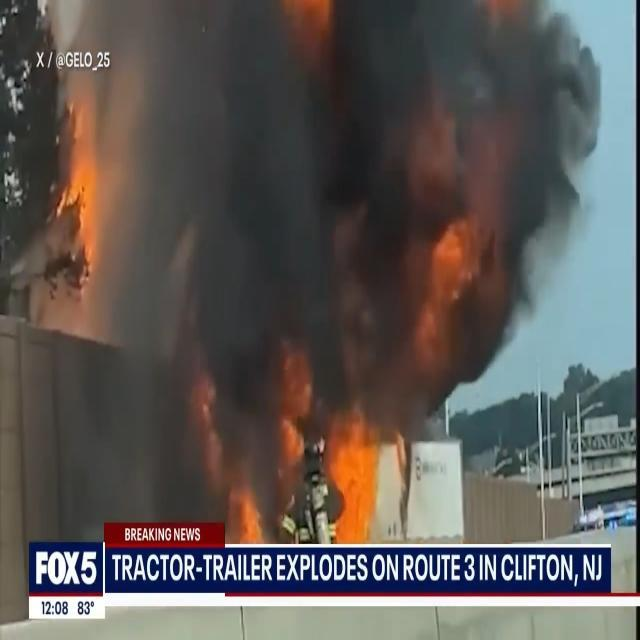fire: (60, 120, 113, 286), (337, 418, 390, 544), (423, 194, 491, 289), (221, 439, 273, 544)
